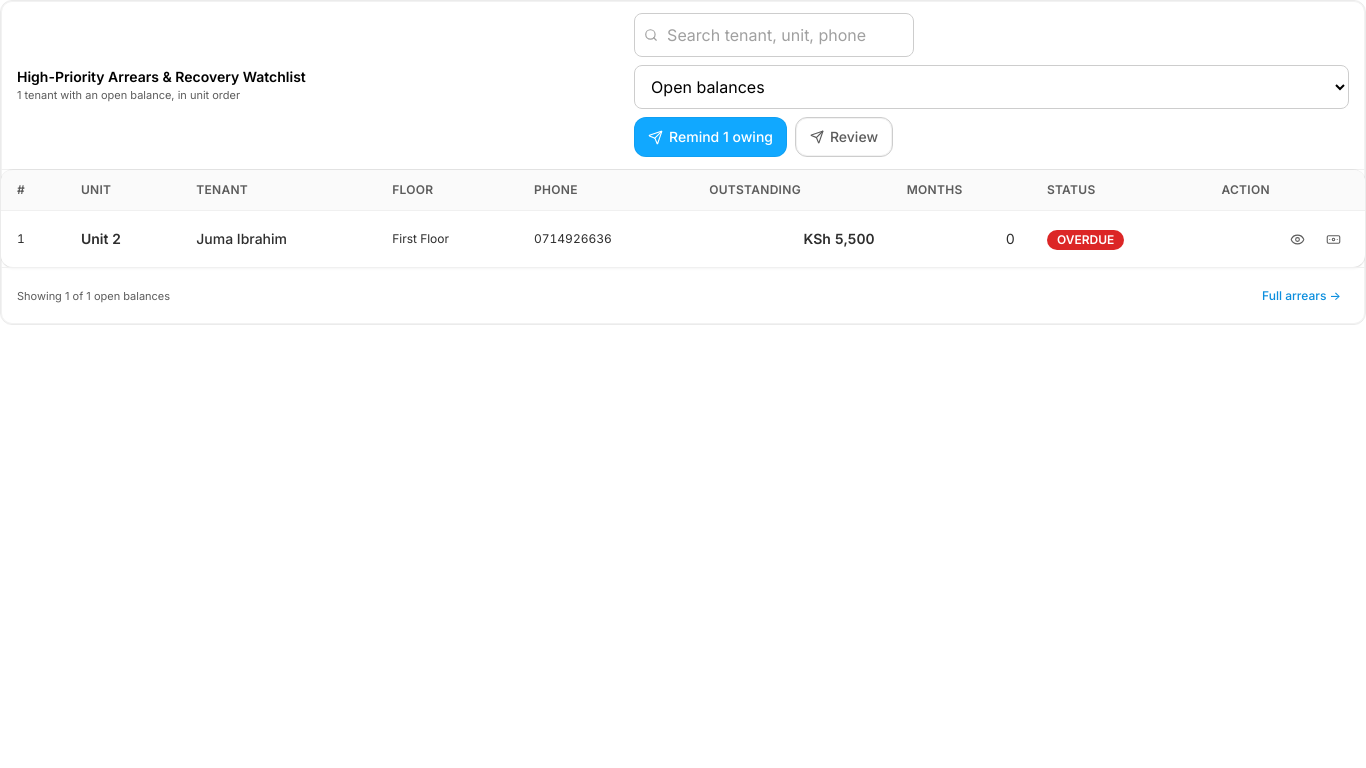
Scenario: ExecWatchlist (empty states) › blames the filter only once a filter is actually hiding rows
Expected: the text "Juma Ibrahim" is shown, [180,210,376,267]
Step 1. Type "zzz" into the field named "Search the arrears watchlist" → [774, 35], box [634,13,914,57]
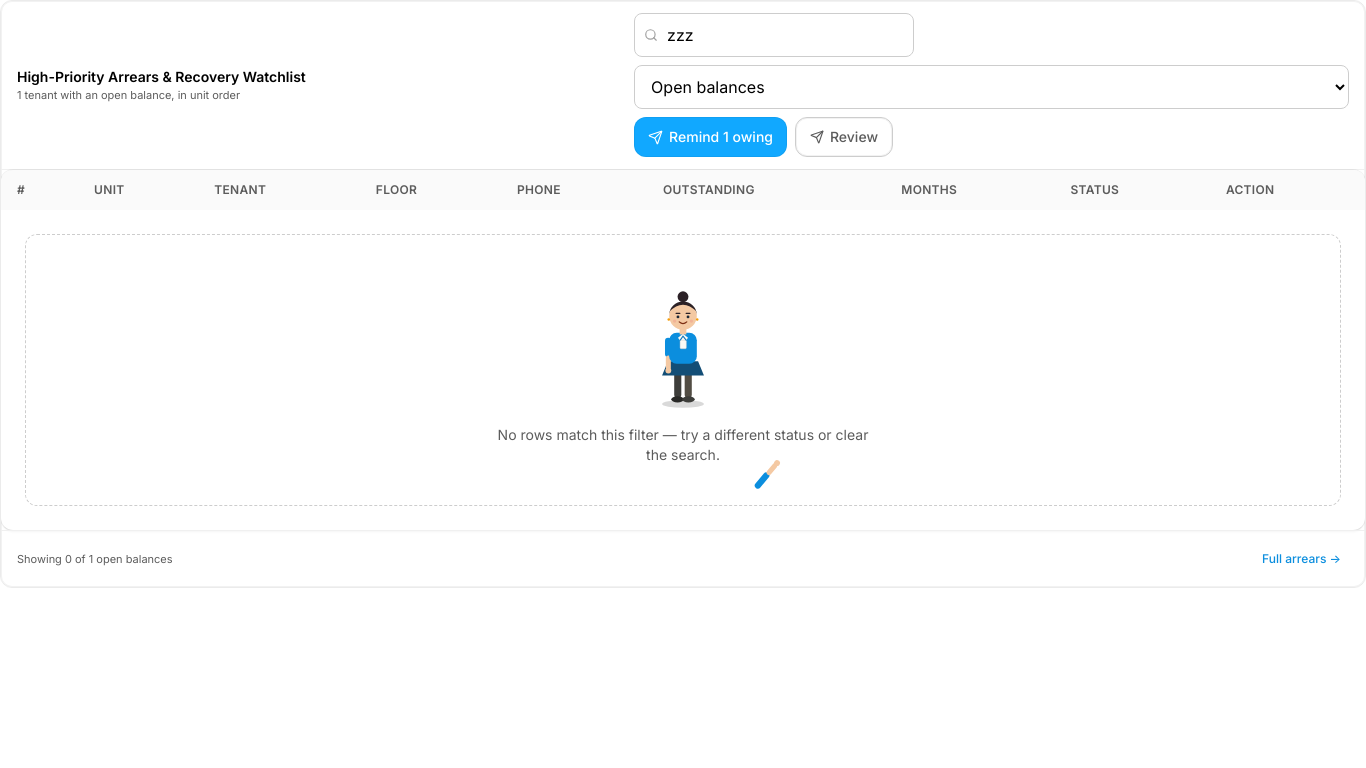
Expected: the text "No rows match this filter — try a different status or clear the search." is shown, [491,425,875,465]
